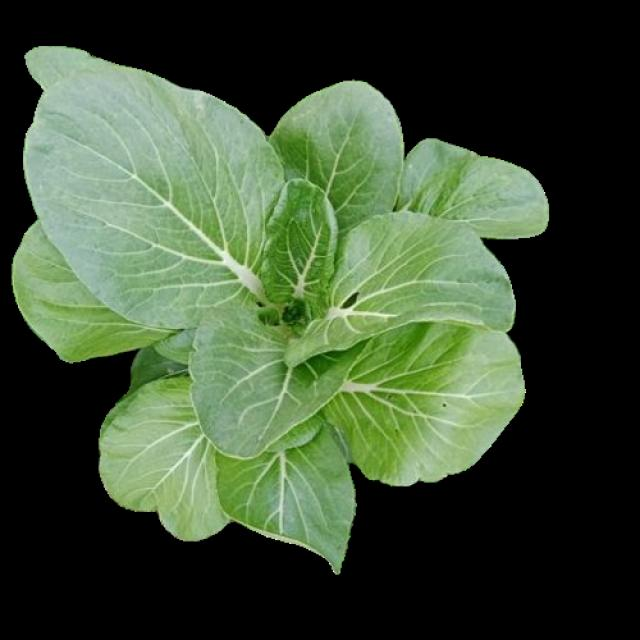mature: (12, 45, 549, 571)
unhealthy: (288, 210, 517, 367)
